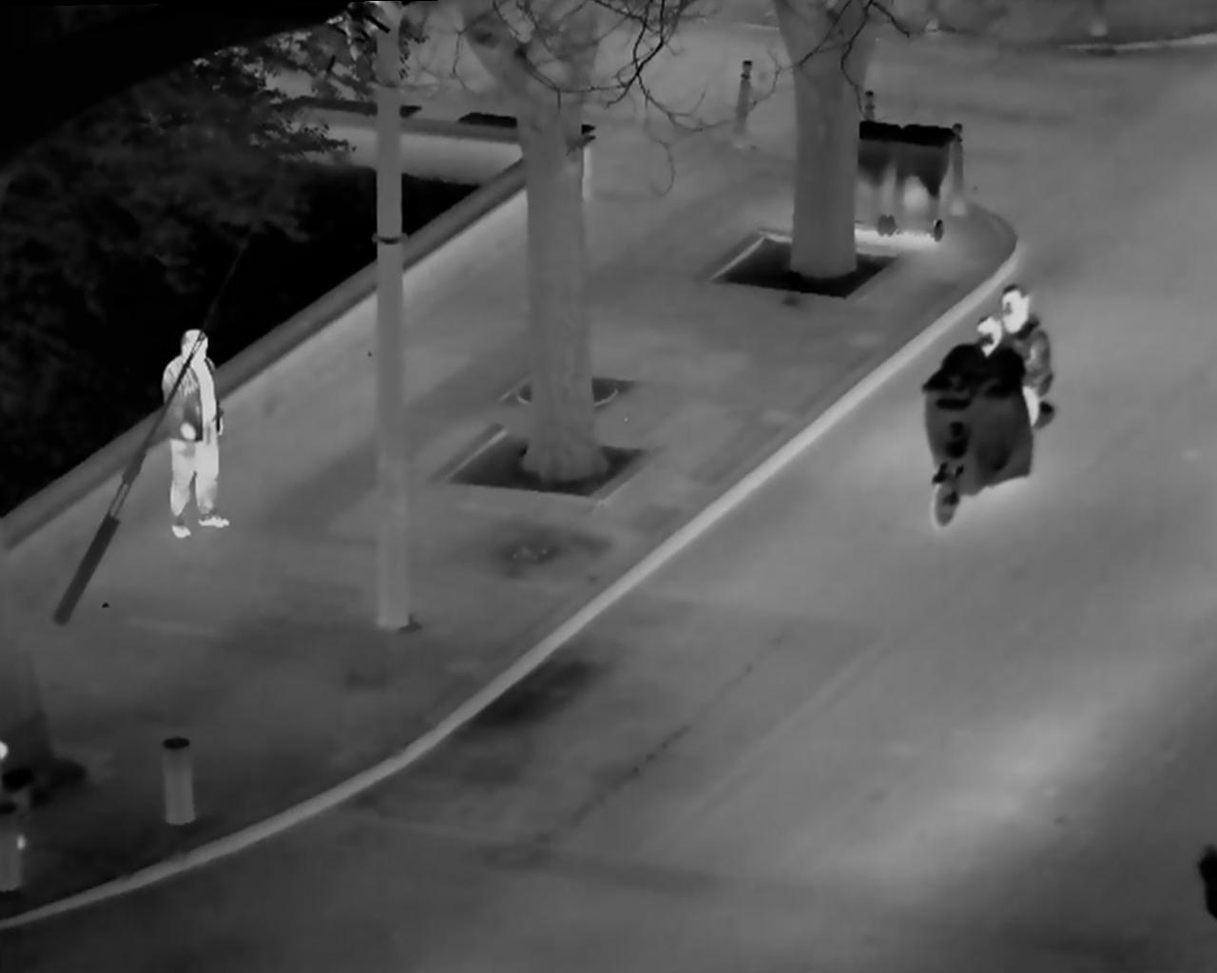person: (150, 327, 244, 541), (1002, 261, 1058, 425), (957, 313, 1021, 448)
